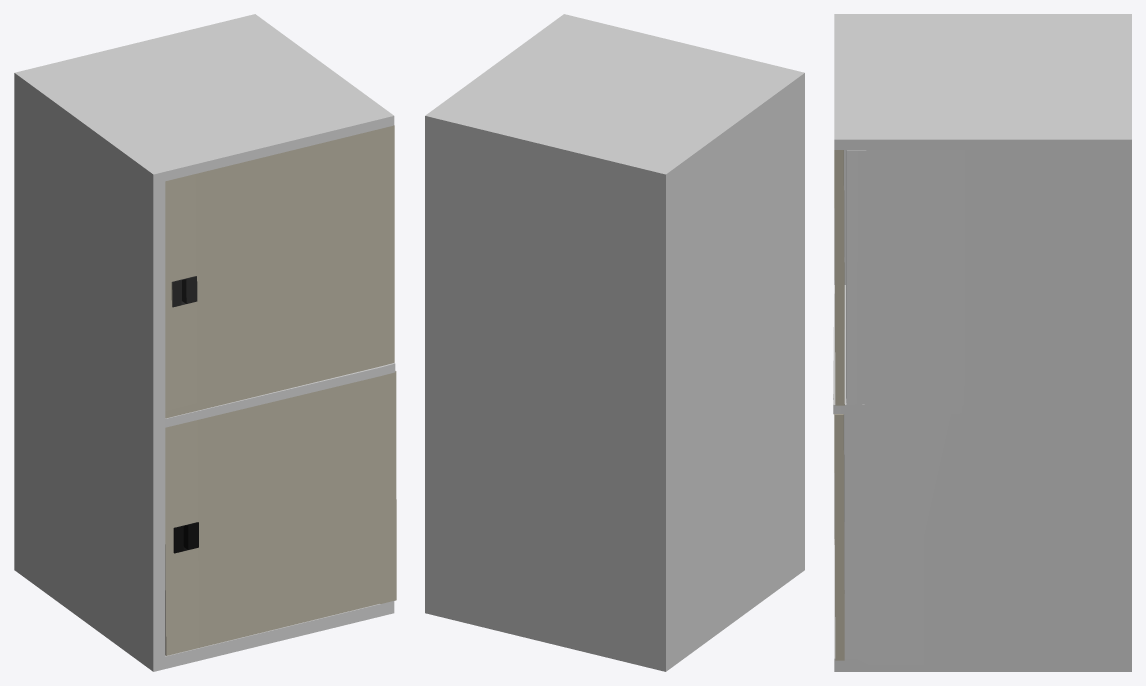
Rendered from hideawaycabinet 2.fbx.
3 renders of one model, left to right at view 1: azimuth 30°, elevation 25°; view 2: azimuth 150°, elevation 25°; view 3: azimuth 270°, elevation 25°, orthographic. The views are drawn at different scales.
Parts seen in each view (by area): view 1: hideaway cabinet, Cube.002, Cube.001; view 2: hideaway cabinet; view 3: hideaway cabinet, Cube.002, Cube.001.
Part boxes in pixels (left/top/right/bottom): hideaway cabinet: left=14, top=14, right=395, bottom=671; Cube.002: left=165, top=125, right=394, bottom=418; Cube.001: left=165, top=371, right=396, bottom=655; hideaway cabinet: left=425, top=14, right=804, bottom=671; hideaway cabinet: left=833, top=14, right=1131, bottom=671; Cube.002: left=834, top=150, right=844, bottom=405; Cube.001: left=834, top=414, right=844, bottom=660.
Bounding box in the file's own units: 202 × 395 × 201.
